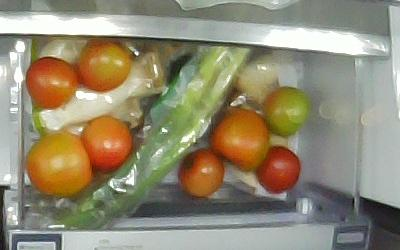tomato: (25, 129, 92, 195), (206, 105, 270, 171), (74, 38, 131, 91), (79, 113, 132, 170), (24, 55, 78, 108), (261, 85, 309, 137), (177, 147, 225, 197), (254, 144, 301, 193)
